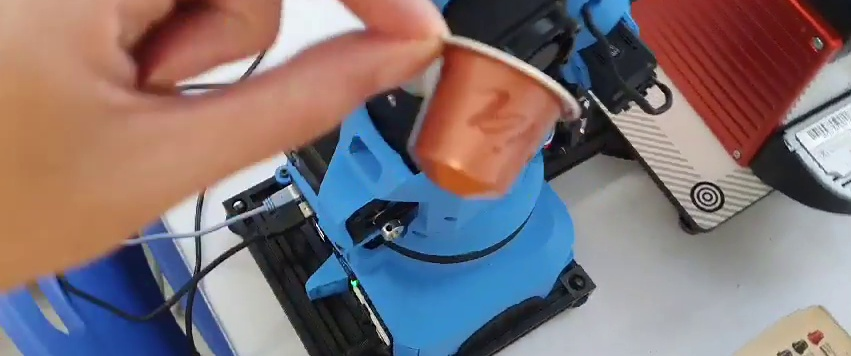capsule_6: (404, 28, 582, 202)
